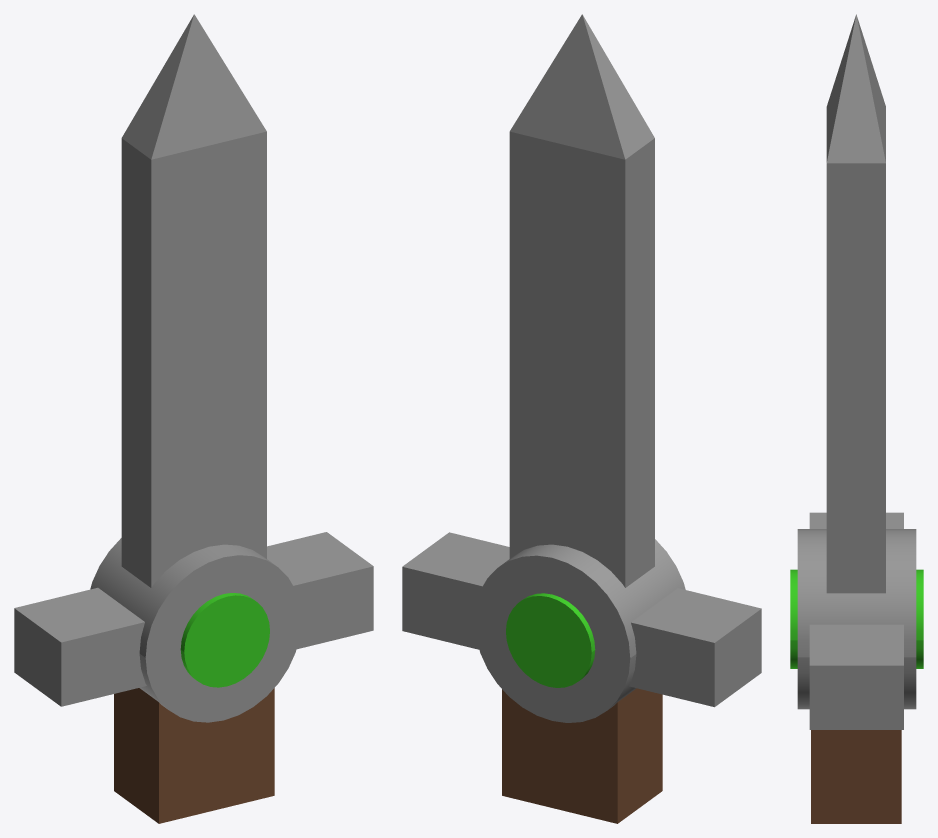
File: sword.fbx
The picture shows the model from 3 angles, left to right: view 1: azimuth 30°, elevation 25°; view 2: azimuth 150°, elevation 25°; view 3: azimuth 270°, elevation 25°; orthographic projection.
Parts seen in each view (by area): view 1: blade.001; view 2: blade.001; view 3: blade.001.
Part boxes in pixels (bbox=[...]): blade.001: bbox=[14, 14, 373, 823]; blade.001: bbox=[402, 14, 761, 823]; blade.001: bbox=[790, 14, 923, 823].
Size of the model in its own units: 132 by 315 by 48.71.
